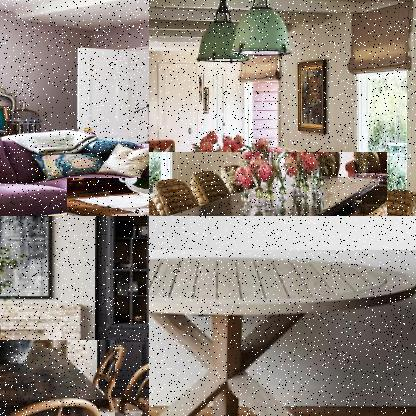table: (149, 250, 415, 415), (149, 152, 388, 215), (0, 340, 115, 415)
